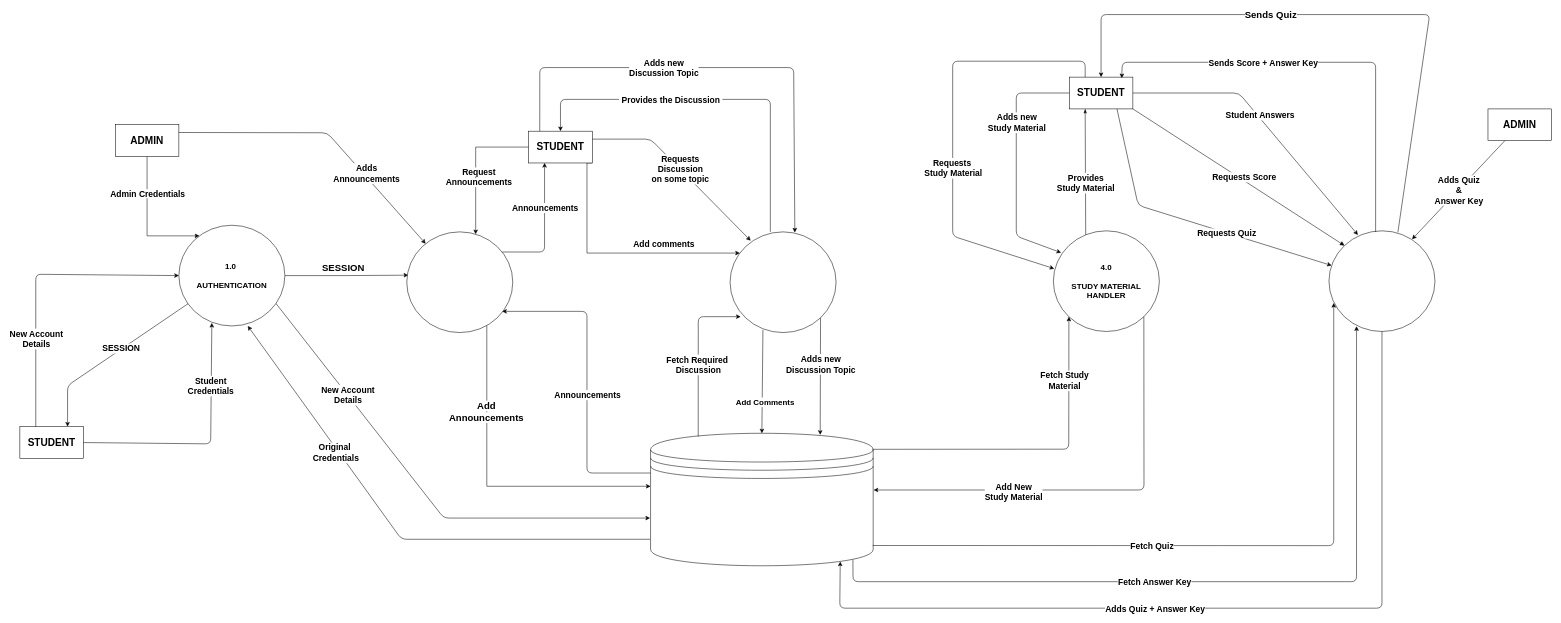
This 1561x623 diagram has some shape labels left out. The shapes that lost their labels are listed below. From the top down, each one's box as (x1, y1, x2, y2) in pixels, then its label:
(406, 231, 513, 333): 2.0 Announcement Handler
(730, 231, 836, 333): 3.0 DISCUSSIONS HANDLER
(1328, 230, 1435, 332): 5.0 PRACTICE
(650, 433, 873, 566): DATABASE
